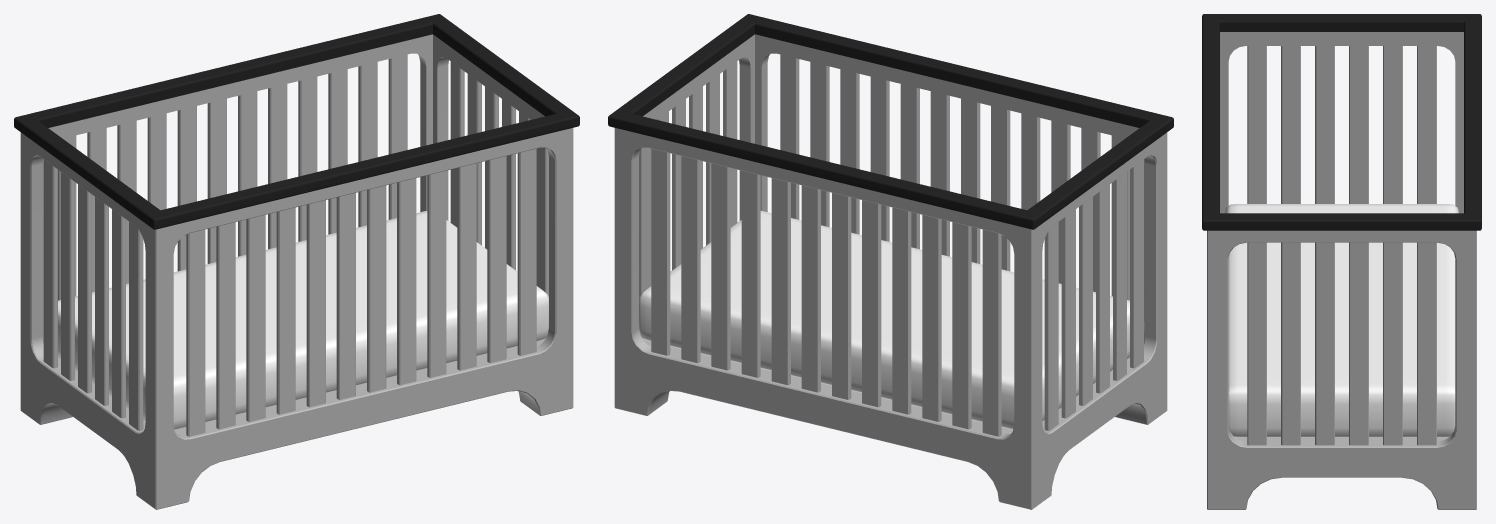
File: Crib_V1.fbx
3 renders of one model, left to right at view 1: azimuth 30°, elevation 25°; view 2: azimuth 150°, elevation 25°; view 3: azimuth 270°, elevation 25°, orthographic.
Parts seen in each view (by area): view 1: Crib_V1; view 2: Crib_V1; view 3: Crib_V1.
Boxes of the visible parts, x1,y1,x2,y2 form: Crib_V1: (14,14,579,509); Crib_V1: (608,14,1173,509); Crib_V1: (1202,14,1481,509).
Size of the model in its own units: 138 by 91 by 79.
